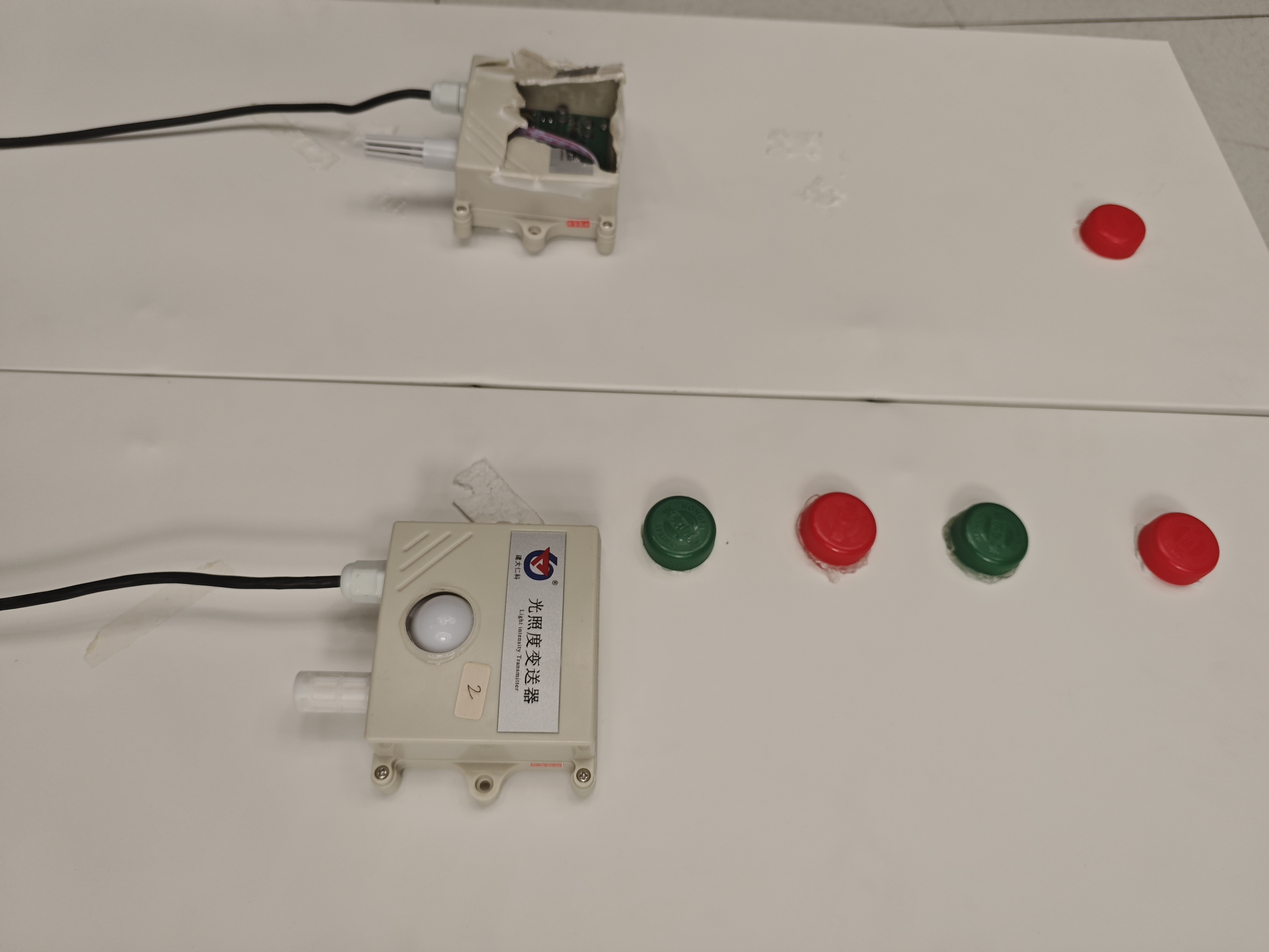red_warning: (1107, 490, 1233, 613), (772, 461, 887, 591), (1063, 192, 1171, 299)
sensor_damage: (349, 29, 663, 289)
